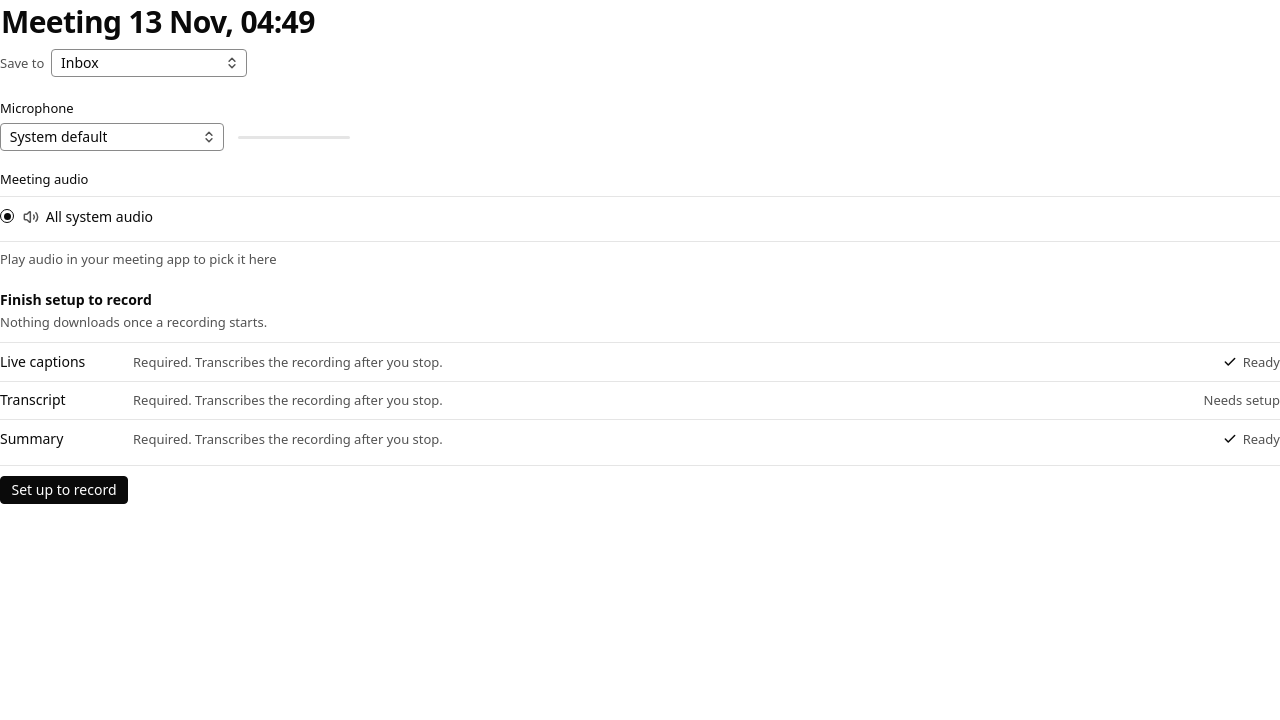
Test: RecordRoute setup (spec 2.4, items 14 to 18) › item 17: Set up runs the engine step first, then the loop reads the snapshot again and records
Click the button "Set up to record": click(64, 490) [0,476,128,504]
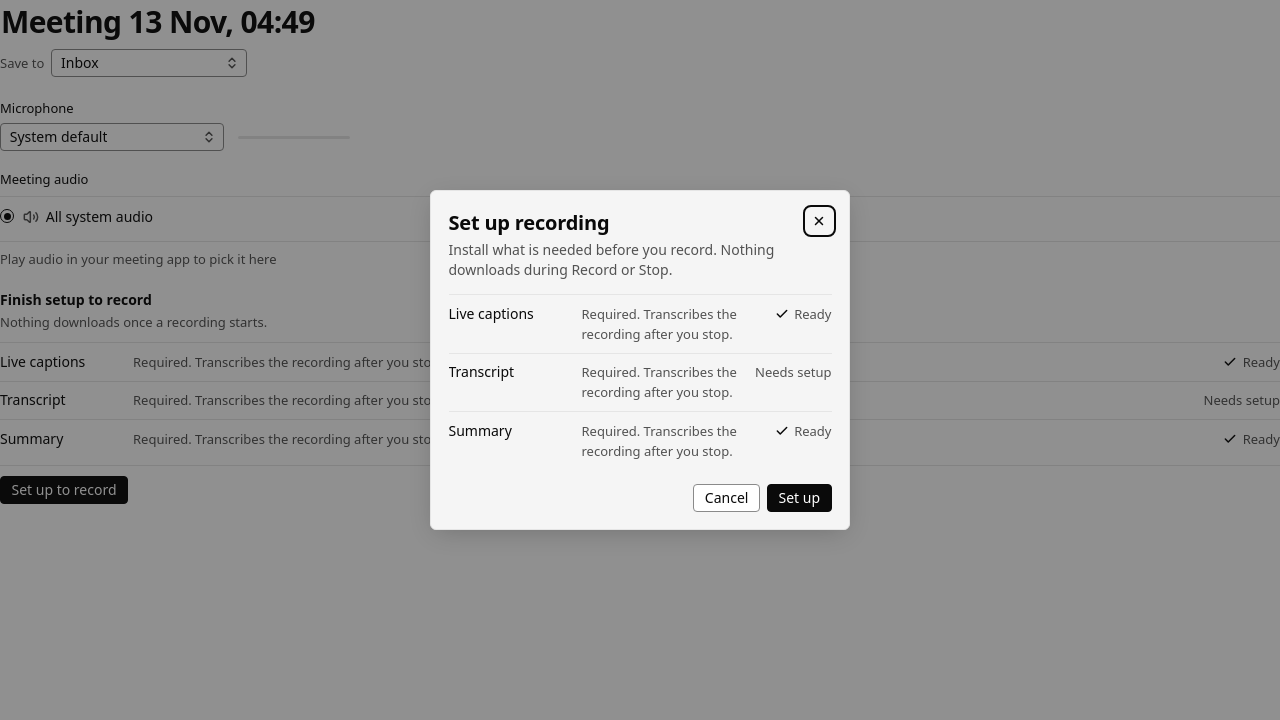
Click the button "Set up": click(799, 498) [767,484,832,512]
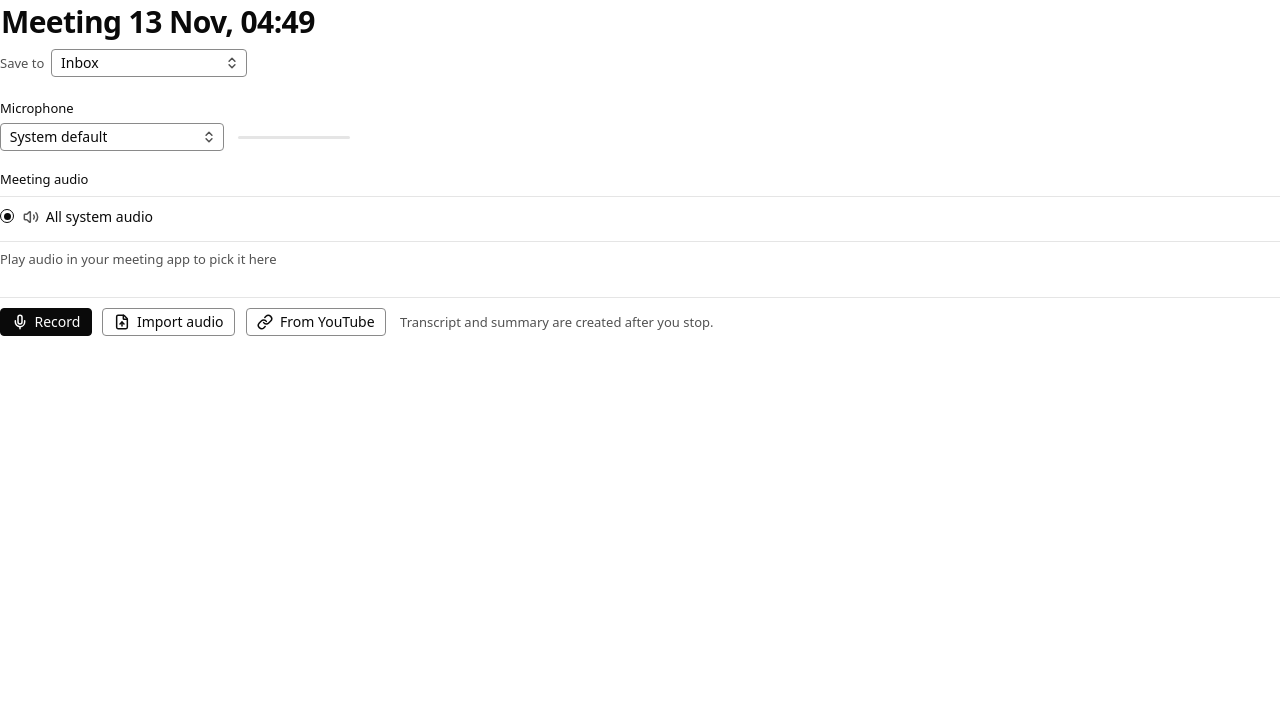
Check: the button "Record" is shown, box [0,308,92,336]
Check: the element with test id "setup-checklist" is gone
